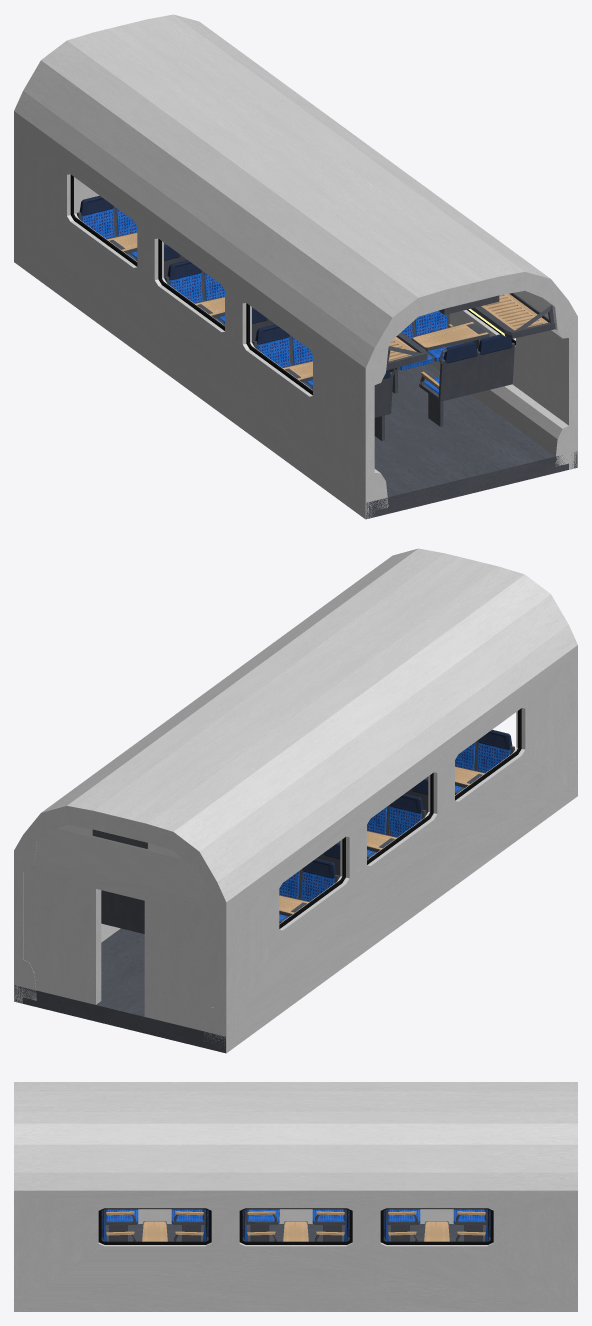
File: train.gltf
The picture shows the model from 3 angles, top to bottom: view 1: azimuth 30°, elevation 25°; view 2: azimuth 150°, elevation 25°; view 3: azimuth 270°, elevation 25°; orthographic projection. The views are drawn at different scales.
Parts seen in each view (by area): view 1: Room_wall1.002, Room_wall1, Room_Floor, Seat_Plastic.001, Room_WindowBlack.002, Luggage_Metal.003, Luggage_Wood.003, Seat_Padding.009, Seat_Padding.011, Seat_Padding.010, Seat_Head.001, Seat_Padding.007 (+3 smaller); view 2: Room_wall1.002, Room_wall1, Room_DoorWall, Room_Floor, Room_WindowBlack.002, Seat_Plastic.008, Seat_Padding.003, Seat_Padding.004, Seat_Padding.005; view 3: Room_wall1, Room_wall1.002, Room_WindowBlack, Room_Floor, Table_Wood, Table_Wood.001, Table_Wood.004, Seat_Padding.003, Seat_Padding.004, Seat_Padding.005, Seat_Padding.009, Seat_Padding.010 (+1 smaller).
Part boxes in pixels (x1,y1,x2,y2): Room_wall1.002: [14, 26, 471, 519]; Room_wall1: [120, 14, 577, 469]; Room_Floor: [164, 244, 577, 519]; Seat_Plastic.001: [419, 342, 514, 401]; Room_WindowBlack.002: [70, 174, 312, 395]; Luggage_Metal.003: [471, 293, 555, 338]; Luggage_Wood.003: [481, 293, 547, 330]; Seat_Padding.009: [81, 208, 137, 261]; Seat_Padding.011: [257, 337, 312, 387]; Seat_Padding.010: [169, 272, 224, 323]; Seat_Head.001: [443, 334, 512, 363]; Seat_Padding.007: [400, 310, 459, 370]; Room_wall1.002: [120, 560, 577, 1053]; Room_wall1: [14, 548, 471, 1003]; Room_DoorWall: [23, 825, 217, 1031]; Room_Floor: [14, 778, 427, 1053]; Room_WindowBlack.002: [279, 708, 521, 928]; Seat_Plastic.008: [101, 890, 144, 933]; Seat_Padding.003: [367, 806, 421, 858]; Seat_Padding.004: [455, 742, 510, 792]; Seat_Padding.005: [279, 871, 334, 921]; Room_wall1: [14, 1101, 577, 1311]; Room_wall1.002: [14, 1082, 577, 1223]; Room_WindowBlack: [98, 1208, 493, 1244]; Room_Floor: [105, 1224, 486, 1241]; Table_Wood: [283, 1221, 308, 1241]; Table_Wood.001: [424, 1221, 449, 1241]; Table_Wood.004: [142, 1221, 167, 1241]; Seat_Padding.003: [246, 1209, 279, 1223]; Seat_Padding.004: [105, 1209, 138, 1223]; Seat_Padding.005: [387, 1209, 420, 1223]; Seat_Padding.009: [453, 1209, 486, 1223]; Seat_Padding.010: [312, 1209, 345, 1223].
Size of the model in its own units: 1.74 by 1.65 by 5.
Materials: 79 (79 with a texture image).
